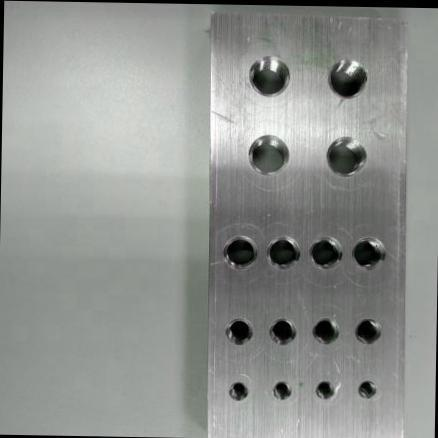hole: (246, 54, 290, 98), (246, 134, 290, 178), (324, 134, 366, 178), (325, 58, 368, 100), (349, 234, 387, 272), (264, 234, 301, 272), (220, 233, 258, 270), (307, 234, 343, 270), (266, 316, 296, 346), (310, 317, 340, 346), (352, 316, 381, 345), (224, 316, 252, 346), (227, 380, 248, 402), (314, 379, 334, 400), (270, 380, 291, 400), (356, 380, 376, 398)
